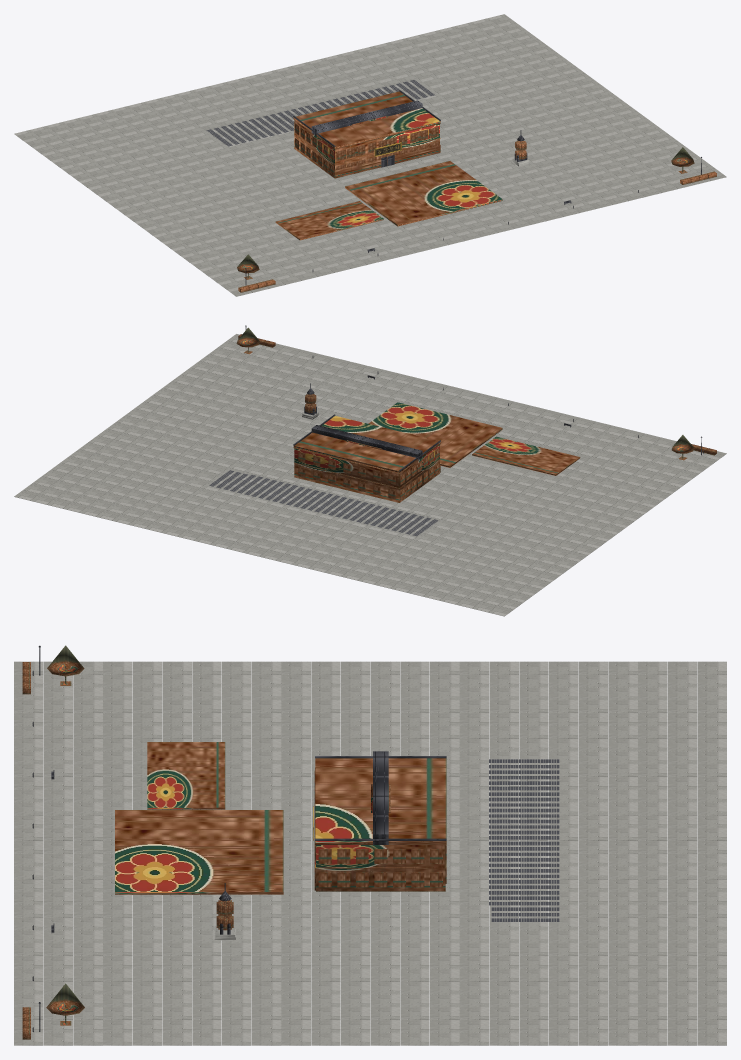
3 renders of one model, top to bottom at view 1: azimuth 30°, elevation 25°; view 2: azimuth 150°, elevation 25°; view 3: azimuth 270°, elevation 25°, orthographic. The views are drawn at different scales.
Visible parts, largest first — view 1: 11710_01_05753_047_01__plinth_ground_base, 11710_01_05753_047_02__mass_body_facade, 11710_01_05753_047_03__roof_deck_structure, 11710_01_05753_047_05__window_sash_glass, 11710_01_05753_047_03__roof_metal_ornament, 11710_01_05753_047_06__landscape_greenery; view 2: 11710_01_05753_047_01__plinth_ground_base, 11710_01_05753_047_02__mass_body_facade, 11710_01_05753_047_03__roof_deck_structure, 11710_01_05753_047_03__roof_metal_ornament, 11710_01_05753_047_06__landscape_greenery; view 3: 11710_01_05753_047_01__plinth_ground_base, 11710_01_05753_047_02__mass_body_facade, 11710_01_05753_047_03__roof_deck_structure, 11710_01_05753_047_03__roof_metal_ornament, 11710_01_05753_047_06__landscape_greenery, 11710_01_05753_047_05__window_sash_glass.
Boxes of the visible parts, x1,y1,x2,y2 form: 11710_01_05753_047_01__plinth_ground_base: (14,14,726,296); 11710_01_05753_047_02__mass_body_facade: (275,91,502,240); 11710_01_05753_047_03__roof_deck_structure: (206,80,434,146); 11710_01_05753_047_05__window_sash_glass: (336,127,526,174); 11710_01_05753_047_03__roof_metal_ornament: (293,90,524,146); 11710_01_05753_047_06__landscape_greenery: (237,147,716,292); 11710_01_05753_047_01__plinth_ground_base: (14,334,726,616); 11710_01_05753_047_02__mass_body_facade: (293,402,580,502); 11710_01_05753_047_03__roof_deck_structure: (209,470,437,536); 11710_01_05753_047_03__roof_metal_ornament: (293,383,440,471); 11710_01_05753_047_06__landscape_greenery: (236,327,716,460); 11710_01_05753_047_01__plinth_ground_base: (14,661,726,1045); 11710_01_05753_047_02__mass_body_facade: (115,742,446,894); 11710_01_05753_047_03__roof_deck_structure: (489,759,559,921); 11710_01_05753_047_03__roof_metal_ornament: (219,751,446,901); 11710_01_05753_047_06__landscape_greenery: (22,645,84,1039); 11710_01_05753_047_05__window_sash_glass: (216,768,315,930).
Size of the model in its own units: 140 by 10.4 by 110.
Materials: 7 (7 with a texture image).
